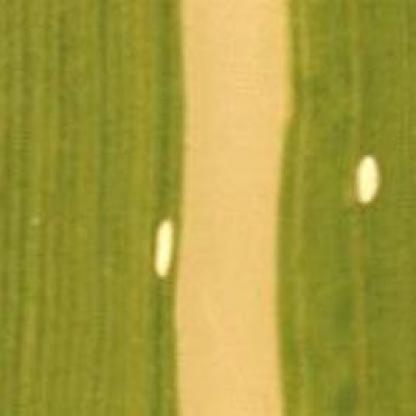whorl-maggot: (348, 150, 386, 216), (148, 216, 176, 282)
